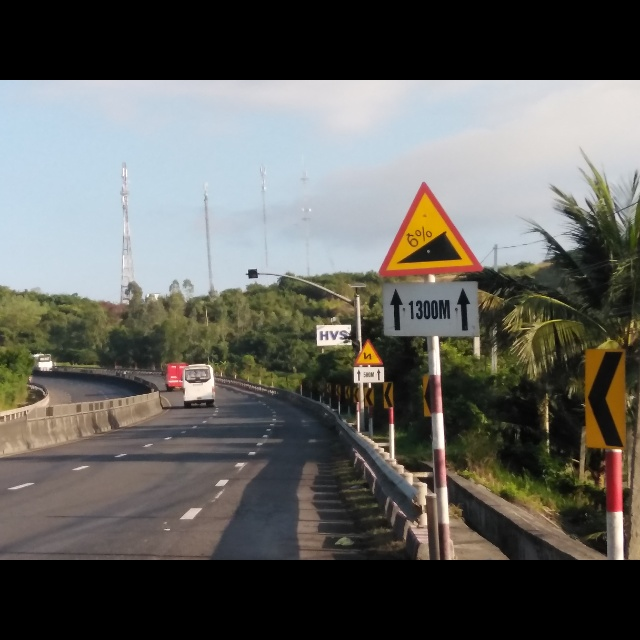Dốc lên nguy hiểm: (377, 179, 483, 277)
Ngoặt nguy hiểm liên tiếp bên phải: (353, 337, 383, 366)
